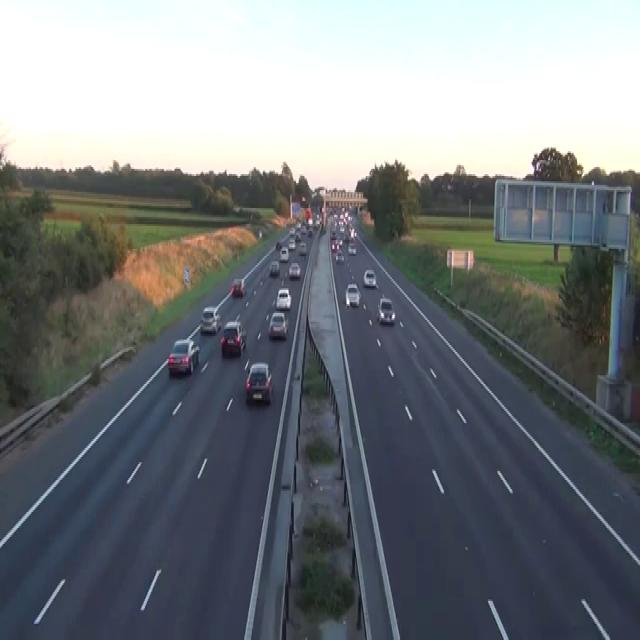Car: (330, 206, 357, 263), (168, 338, 200, 375), (245, 361, 273, 403), (220, 320, 246, 357), (200, 306, 221, 334), (268, 311, 288, 338), (377, 297, 395, 323), (345, 282, 360, 308), (275, 288, 291, 309), (231, 277, 245, 297), (363, 268, 377, 286), (288, 261, 300, 279), (269, 260, 279, 276), (279, 246, 289, 262), (335, 249, 344, 263), (347, 242, 356, 254), (298, 242, 306, 254), (232, 204, 242, 213), (331, 238, 337, 251), (288, 238, 295, 249), (313, 217, 320, 227), (294, 231, 300, 242), (336, 238, 342, 249), (289, 226, 295, 236), (275, 240, 281, 249), (307, 217, 313, 226), (300, 224, 306, 233), (446, 182, 452, 190), (330, 230, 336, 238), (307, 228, 312, 236), (258, 230, 262, 238)
